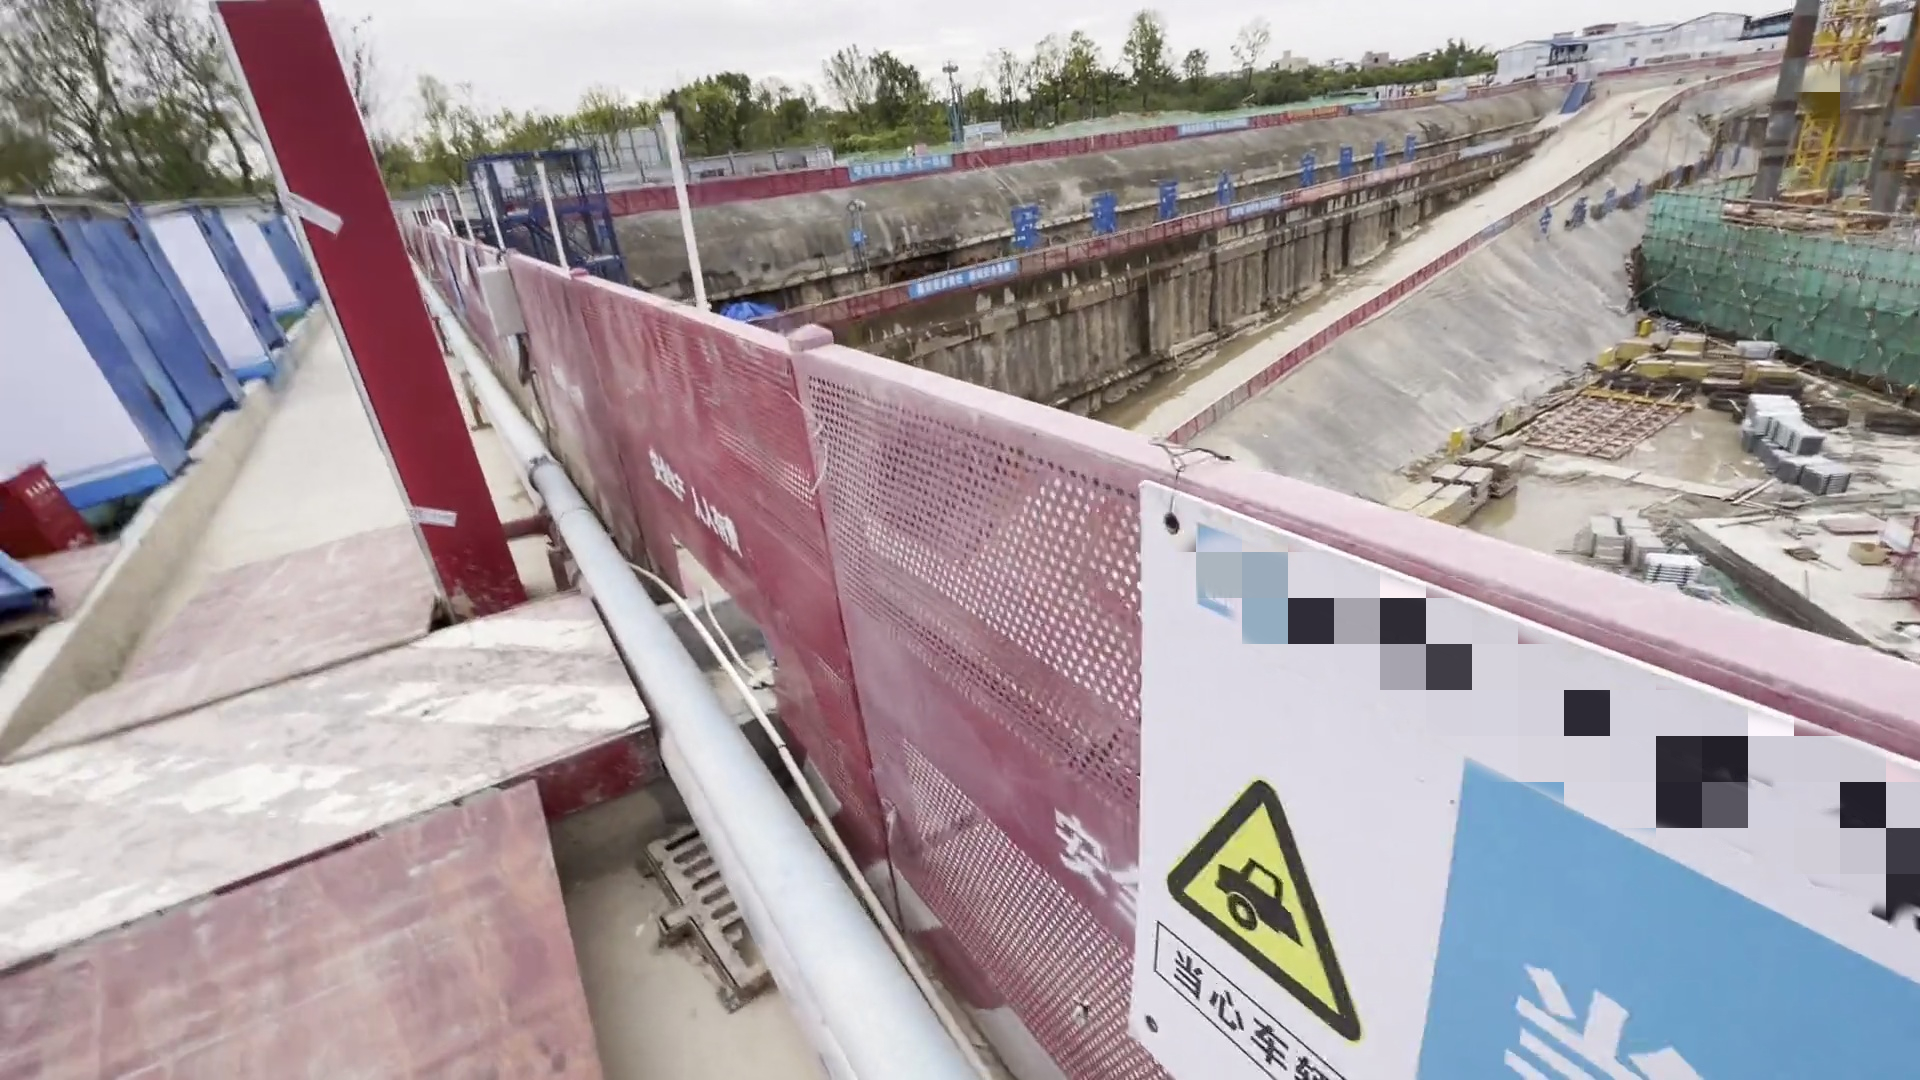fence: (462, 222, 1913, 1080)
